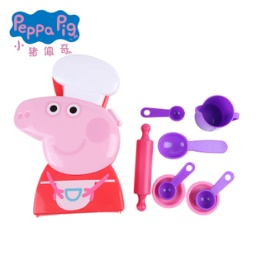Peppa: (14, 98, 125, 218)
